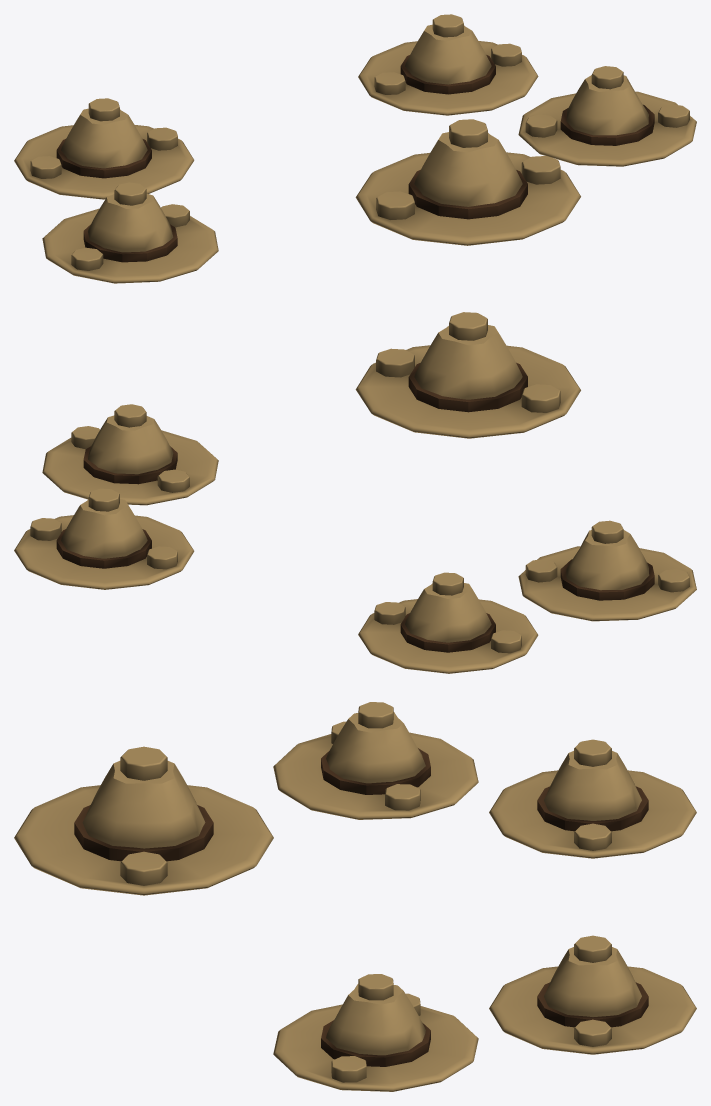
File: steam-rangers-lod1.glb
3 views of the same model, one above another, from view 1: azimuth 30°, elevation 25°; view 2: azimuth 150°, elevation 25°; view 3: azimuth 270°, elevation 25° (orthographic). The views are drawn at different scales.
Visible parts, largest first — view 1: cap_hat, att3_hat, att0_hat, att2_hat, att1_hat; view 2: cap_hat, att0_hat, att1_hat, att3_hat, att2_hat; view 3: cap_hat, att3_hat, att2_hat, att1_hat, att0_hat.
Boxes of the visible parts, left/top/right/bottom form: cap_hat: left=355, top=119, right=580, bottom=245; att3_hat: left=42, top=182, right=218, bottom=283; att0_hat: left=358, top=14, right=538, bottom=115; att2_hat: left=518, top=66, right=696, bottom=166; att1_hat: left=14, top=98, right=194, bottom=199; cap_hat: left=355, top=312, right=580, bottom=438; att0_hat: left=14, top=488, right=194, bottom=589; att1_hat: left=358, top=572, right=538, bottom=673; att3_hat: left=518, top=520, right=696, bottom=621; att2_hat: left=42, top=404, right=218, bottom=505; cap_hat: left=14, top=746, right=273, bottom=895; att3_hat: left=273, top=702, right=478, bottom=819; att2_hat: left=273, top=974, right=478, bottom=1091; att1_hat: left=489, top=739, right=696, bottom=858; att0_hat: left=489, top=935, right=696, bottom=1054.
Size of the model in its own units: 2.28 by 0.4645 by 1.83.
